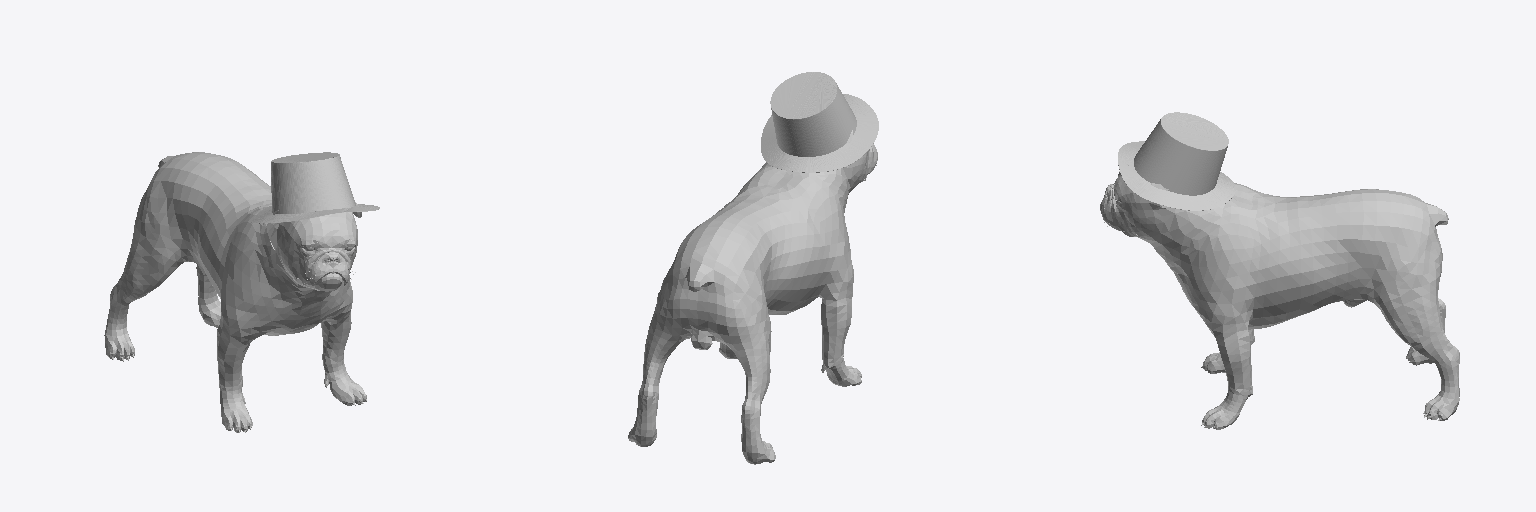
The model's file is bulldog.obj.
The picture shows the model from 3 angles: view 1: azimuth 30°, elevation 25°; view 2: azimuth 150°, elevation 25°; view 3: azimuth 270°, elevation 25°; orthographic projection.
Visible parts, largest first — view 1: EnglishBulldog_by_AlexLashko_FreeSample, Object001; view 2: EnglishBulldog_by_AlexLashko_FreeSample, Object001; view 3: EnglishBulldog_by_AlexLashko_FreeSample, Object001.
Boxes of the visible parts, x1=… form: EnglishBulldog_by_AlexLashko_FreeSample: x1=104, y1=152, x2=366, y2=432; Object001: x1=251, y1=152, x2=379, y2=223; EnglishBulldog_by_AlexLashko_FreeSample: x1=628, y1=130, x2=877, y2=464; Object001: x1=761, y1=72, x2=878, y2=172; EnglishBulldog_by_AlexLashko_FreeSample: x1=1100, y1=171, x2=1459, y2=429; Object001: x1=1118, y1=112, x2=1235, y2=210.
Bounding box in the file's own units: 11.09 × 18.9 × 22.29.